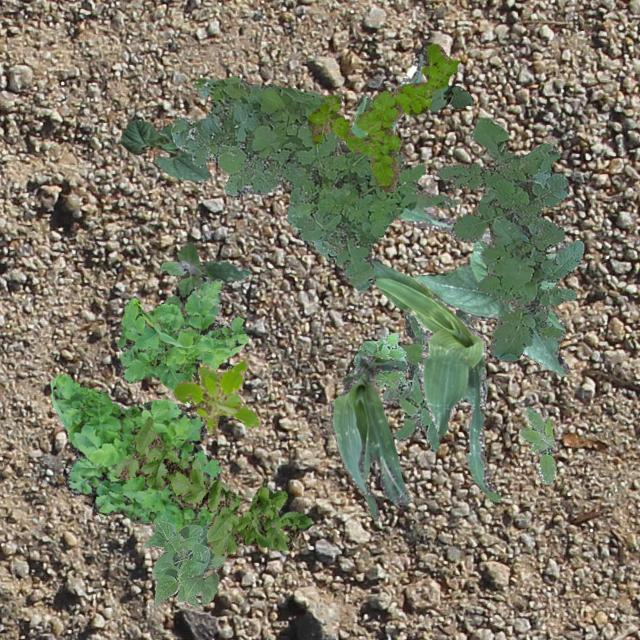crop: (370, 257, 500, 503), (350, 52, 490, 240), (413, 238, 568, 374), (329, 354, 408, 518), (142, 518, 226, 608), (120, 120, 208, 180), (427, 84, 472, 110)
weed: (170, 76, 458, 290), (436, 116, 582, 360), (112, 416, 310, 556), (50, 372, 220, 532), (306, 42, 458, 190), (116, 278, 247, 390), (382, 308, 474, 450), (172, 358, 260, 432), (158, 242, 250, 308), (518, 404, 556, 484), (352, 332, 406, 386)
